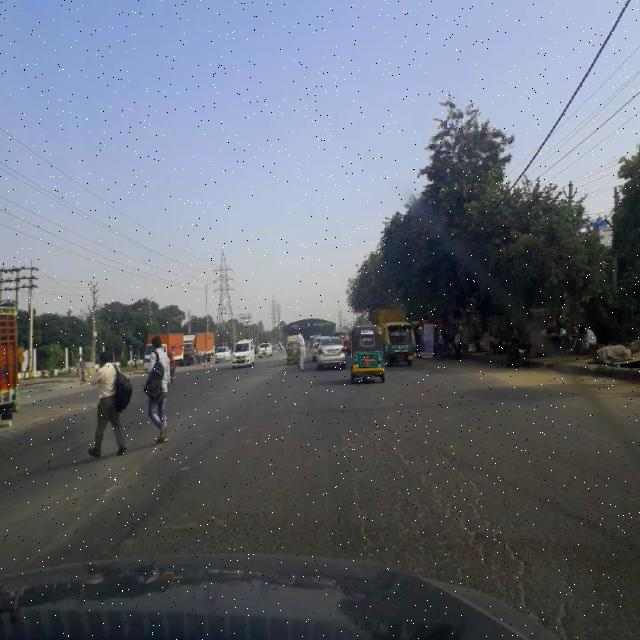D20: (340, 414, 570, 608)
